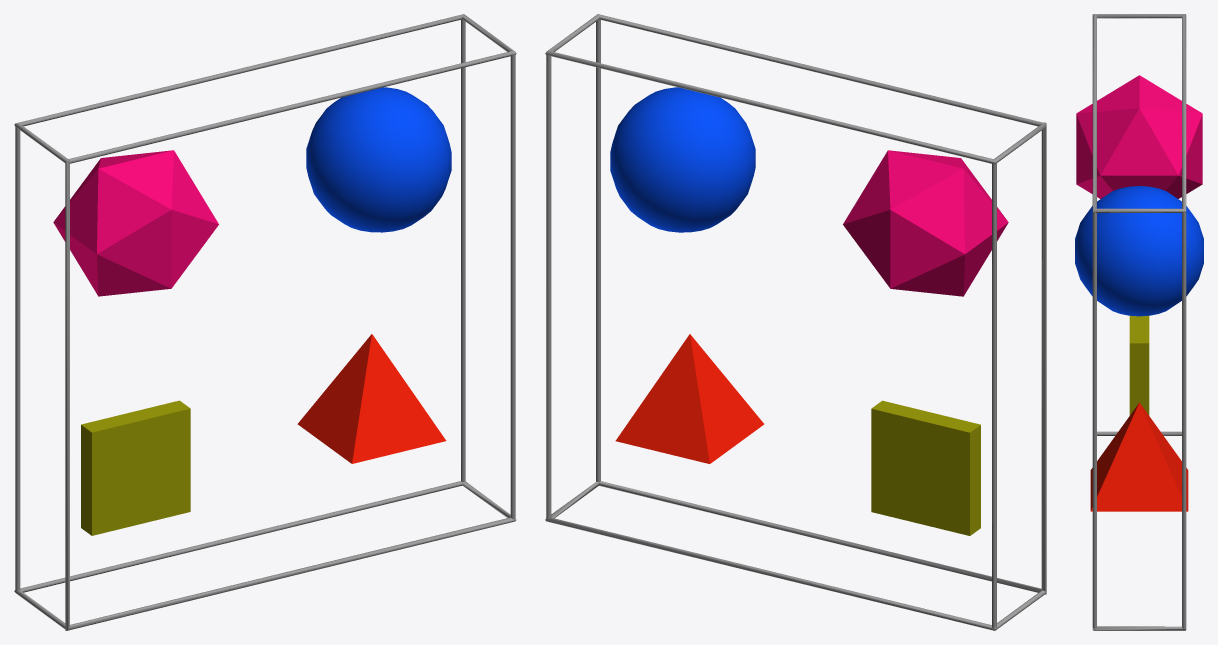
File: XRDC_MUSIC_INT_CUBE.fbx
3 renders of one model, left to right at view 1: azimuth 30°, elevation 25°; view 2: azimuth 150°, elevation 25°; view 3: azimuth 270°, elevation 25°, orthographic. The views are drawn at different scales.
Visible parts, largest first — view 1: Interaction_Cube, Instrument_2, Instrument_1, Instrument_3, Instrument_4; view 2: Interaction_Cube, Instrument_2, Instrument_1, Instrument_3, Instrument_4; view 3: Instrument_2, Instrument_1, Interaction_Cube, Instrument_4, Instrument_3.
Part boxes in pixels (x1,y1,x2,y2): Interaction_Cube: (14, 14, 516, 630); Instrument_2: (306, 87, 451, 232); Instrument_1: (53, 150, 218, 296); Instrument_3: (81, 400, 190, 535); Instrument_4: (297, 334, 446, 463); Interaction_Cube: (545, 14, 1046, 630); Instrument_2: (610, 87, 755, 232); Instrument_1: (843, 150, 1008, 296); Instrument_3: (871, 400, 980, 535); Instrument_4: (615, 334, 764, 463); Instrument_2: (1075, 186, 1203, 316); Instrument_1: (1076, 75, 1202, 198); Interaction_Cube: (1092, 14, 1186, 630); Instrument_4: (1090, 402, 1188, 511); Instrument_3: (1129, 315, 1149, 415).
Size of the model in its own units: 202 by 202 by 55.94.
